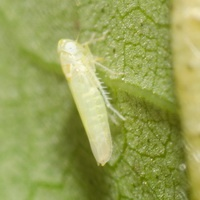insect: (58, 39, 124, 165)
